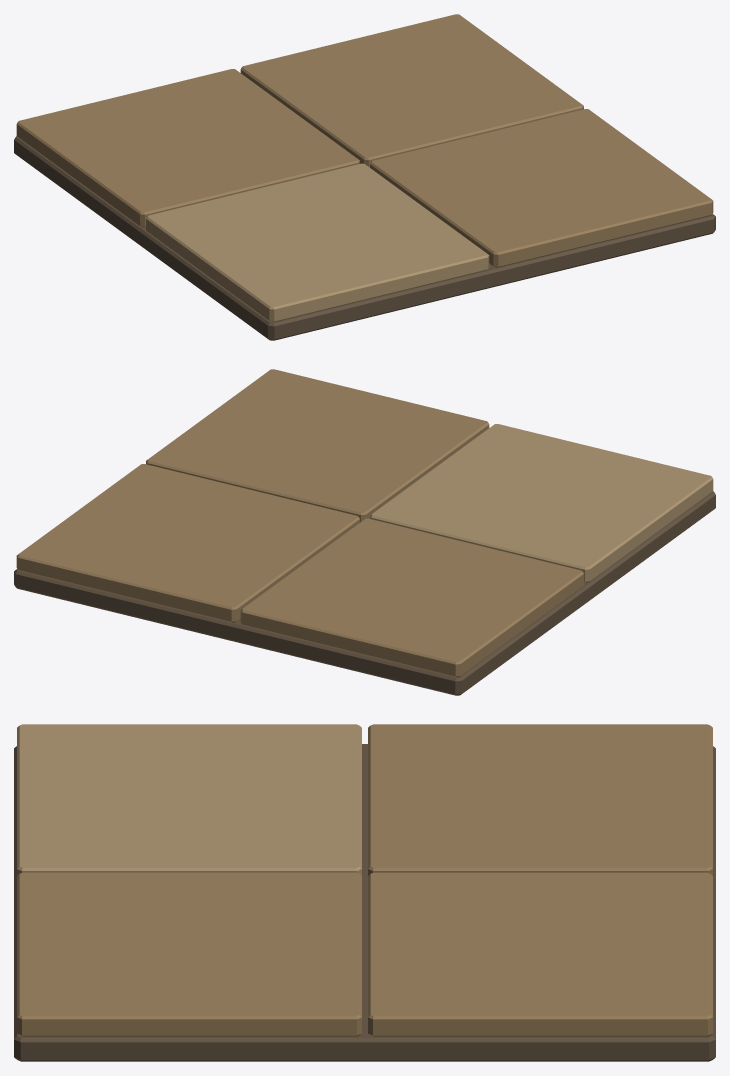
File: floor-plain.glb
The picture shows the model from 3 angles, top to bottom: view 1: azimuth 30°, elevation 25°; view 2: azimuth 150°, elevation 25°; view 3: azimuth 270°, elevation 25°; orthographic projection. The views are drawn at different scales.
Visible parts, largest first — view 1: floor-plain__body; view 2: floor-plain__body; view 3: floor-plain__body.
Part boxes in pixels (x1,y1,x2,y2): floor-plain__body: [14, 14, 715, 340]; floor-plain__body: [14, 369, 715, 695]; floor-plain__body: [14, 724, 715, 1061].
Size of the model in its own units: 2 by 0.14 by 2.
